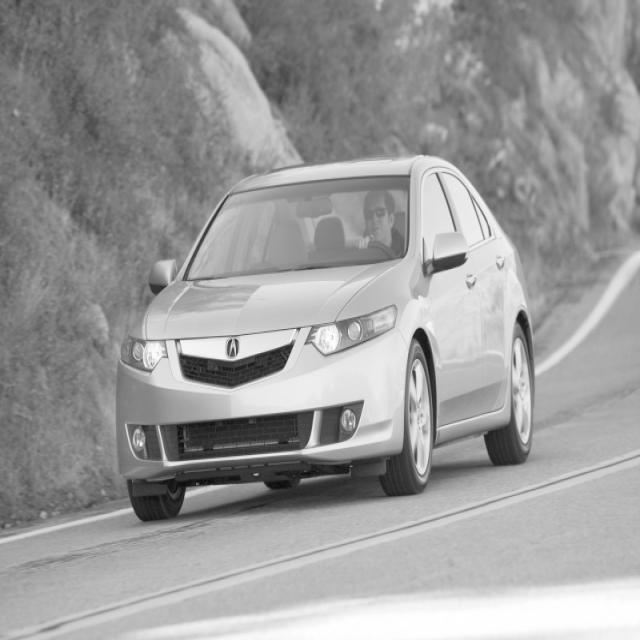car: (114, 153, 536, 521)
